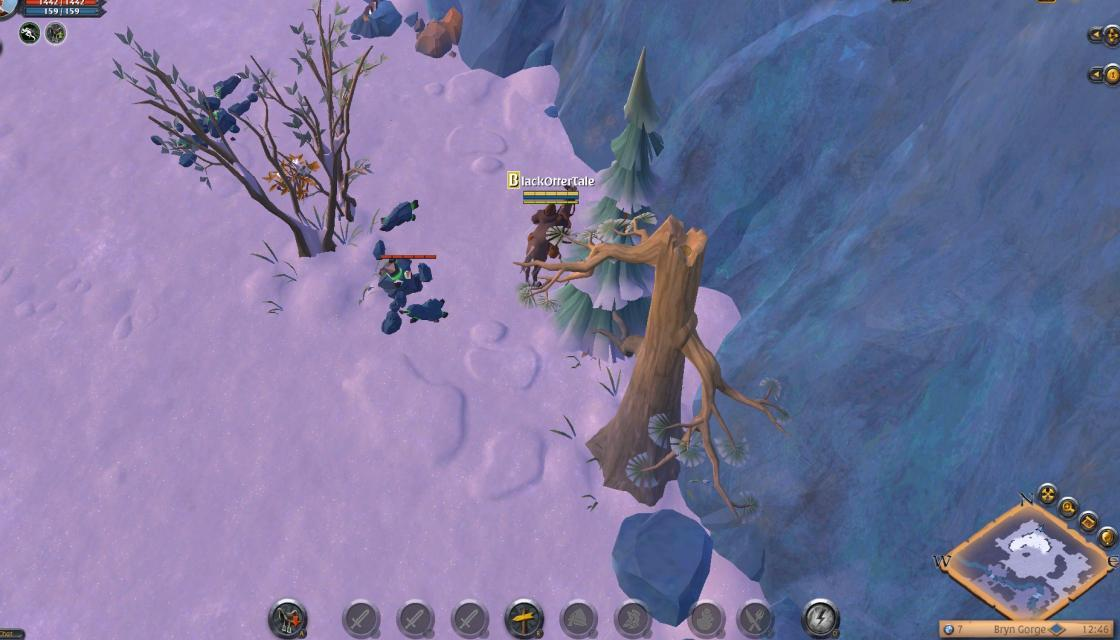copperore: (348, 0, 389, 40)
limestone: (410, 8, 466, 60)
